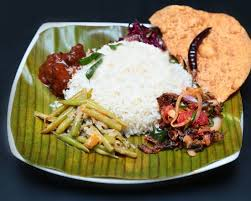rice: (59, 4, 251, 158)
